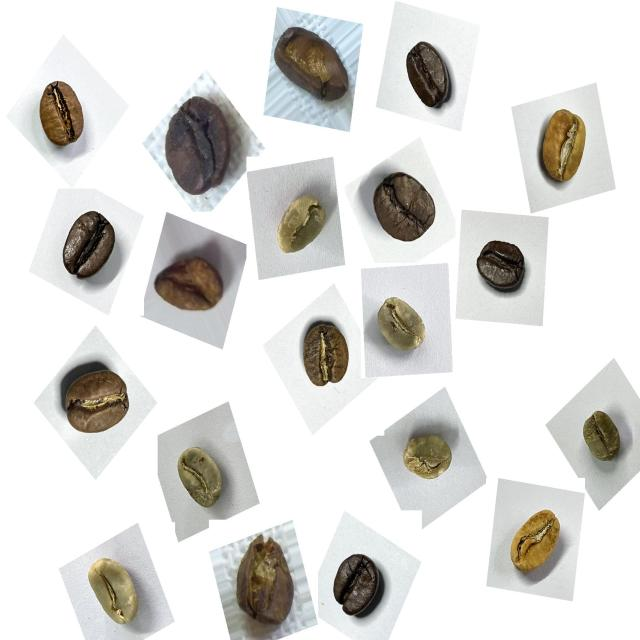bad: (155, 86, 246, 207), (268, 15, 359, 117), (226, 526, 305, 636), (150, 235, 236, 326)
dark: (52, 201, 124, 292), (322, 541, 392, 629), (396, 28, 462, 117), (468, 230, 536, 308)
green: (77, 548, 150, 639), (266, 184, 337, 271), (166, 435, 234, 521), (366, 286, 435, 366), (394, 423, 461, 496), (572, 400, 632, 474)
light: (528, 98, 602, 196), (497, 498, 572, 592)
medium: (55, 359, 139, 451), (364, 163, 446, 257), (291, 315, 360, 399), (29, 73, 96, 159)
